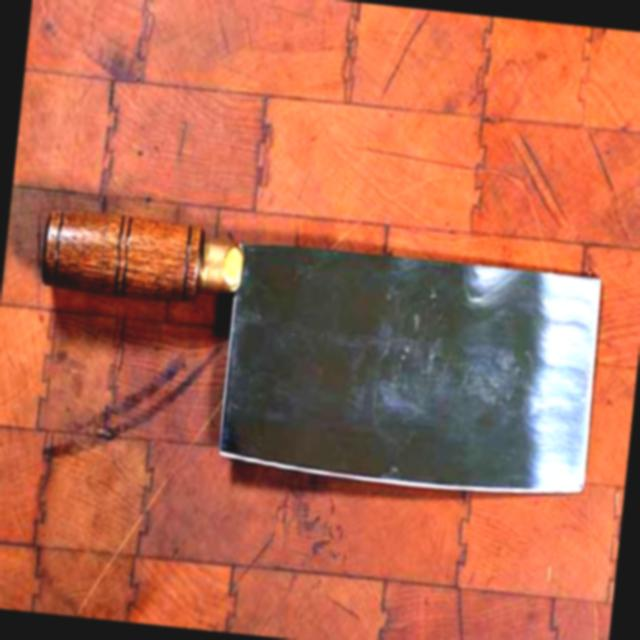cleaver: (13, 204, 604, 497)
